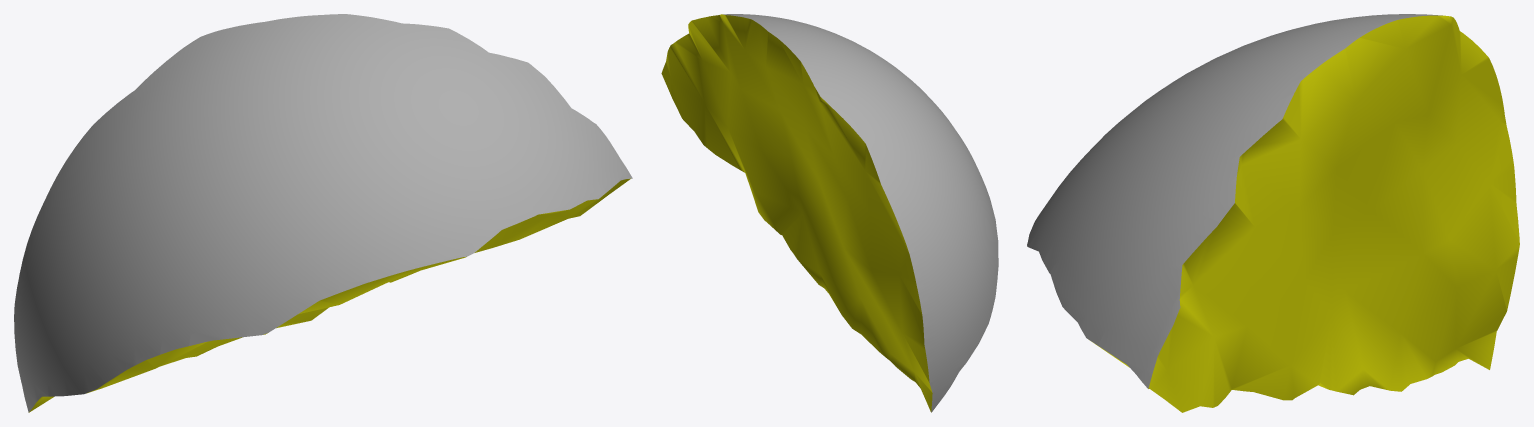
The model's file is moon_shard_6.fbx.
3 views of the same model, side by side, from view 1: azimuth 30°, elevation 25°; view 2: azimuth 150°, elevation 25°; view 3: azimuth 270°, elevation 25° (orthographic). The views are drawn at different scales.
Visible parts, largest first — view 1: shard6; view 2: shard6; view 3: shard6.
Part boxes in pixels (x1,y1,x2,y2): shard6: (14, 14, 632, 412); shard6: (661, 14, 998, 412); shard6: (1027, 14, 1519, 412).
Bounding box in the file's own units: 27.15 × 20.07 × 18.41.
